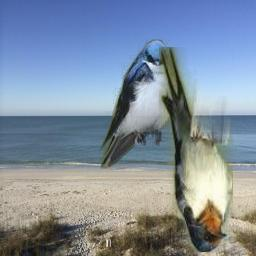Swallow: (159, 47, 233, 252), (98, 38, 179, 169)
